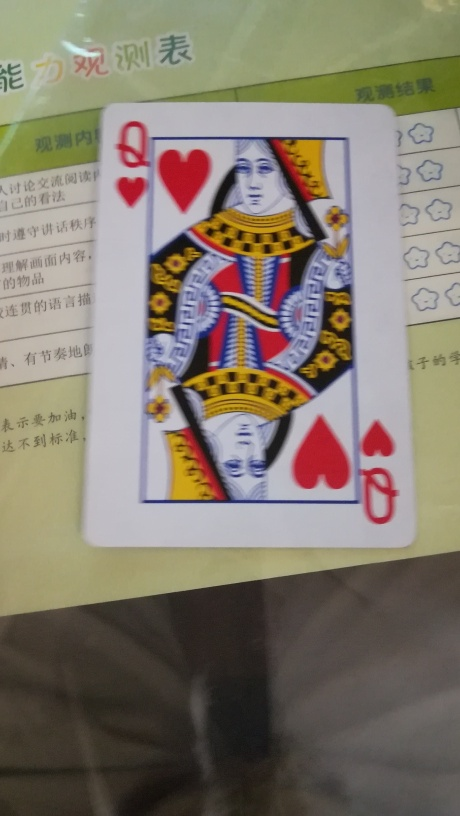hx q: (88, 100, 412, 552)
